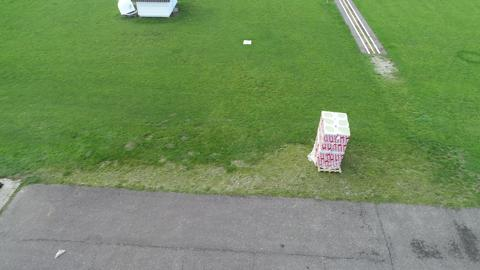RockwoolPallet: (310, 110, 351, 174)
